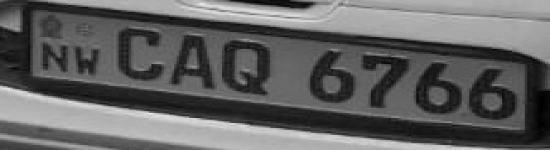6: (465, 63, 521, 123), (413, 56, 465, 119), (306, 46, 359, 107)
7: (360, 49, 410, 112)
A: (166, 32, 219, 92)
C: (114, 23, 166, 82)
N: (35, 41, 75, 73)
Q: (219, 37, 280, 98)
W: (74, 43, 102, 78)
